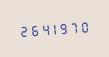four: (37, 21, 46, 37)
nine: (57, 19, 66, 36)
one: (47, 20, 56, 36)
seven: (67, 19, 76, 35)
six: (27, 21, 36, 38)
two: (17, 22, 26, 38)
zero: (77, 18, 86, 34)
